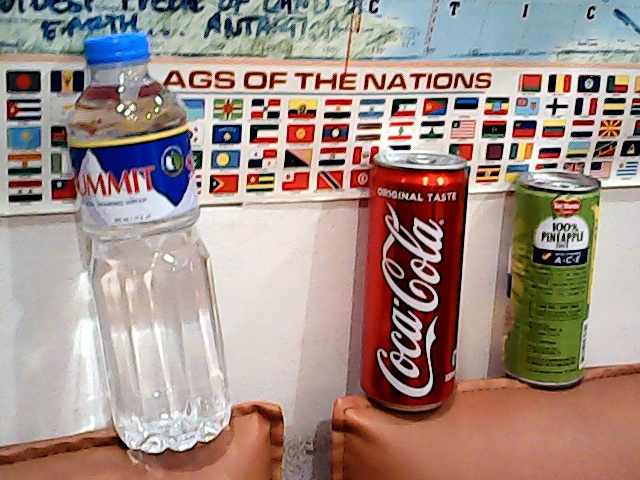Pine Juice: (354, 124, 472, 424), (485, 160, 607, 399)
Summit Water: (39, 17, 240, 459)
